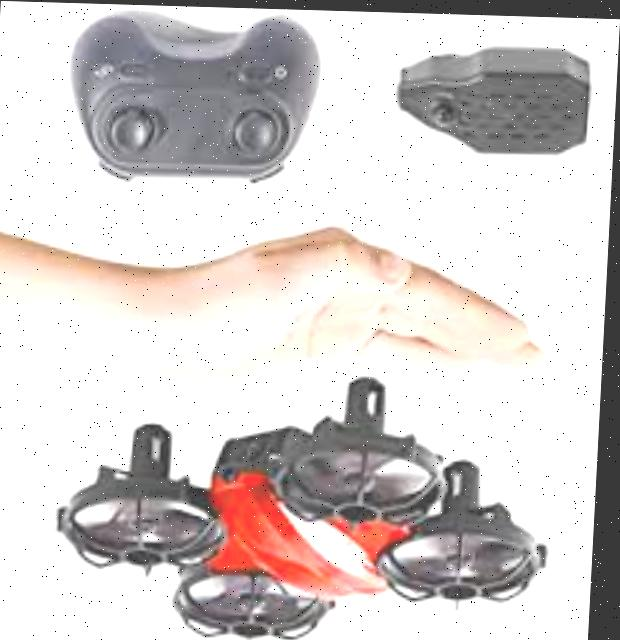drone: (40, 360, 581, 640)
